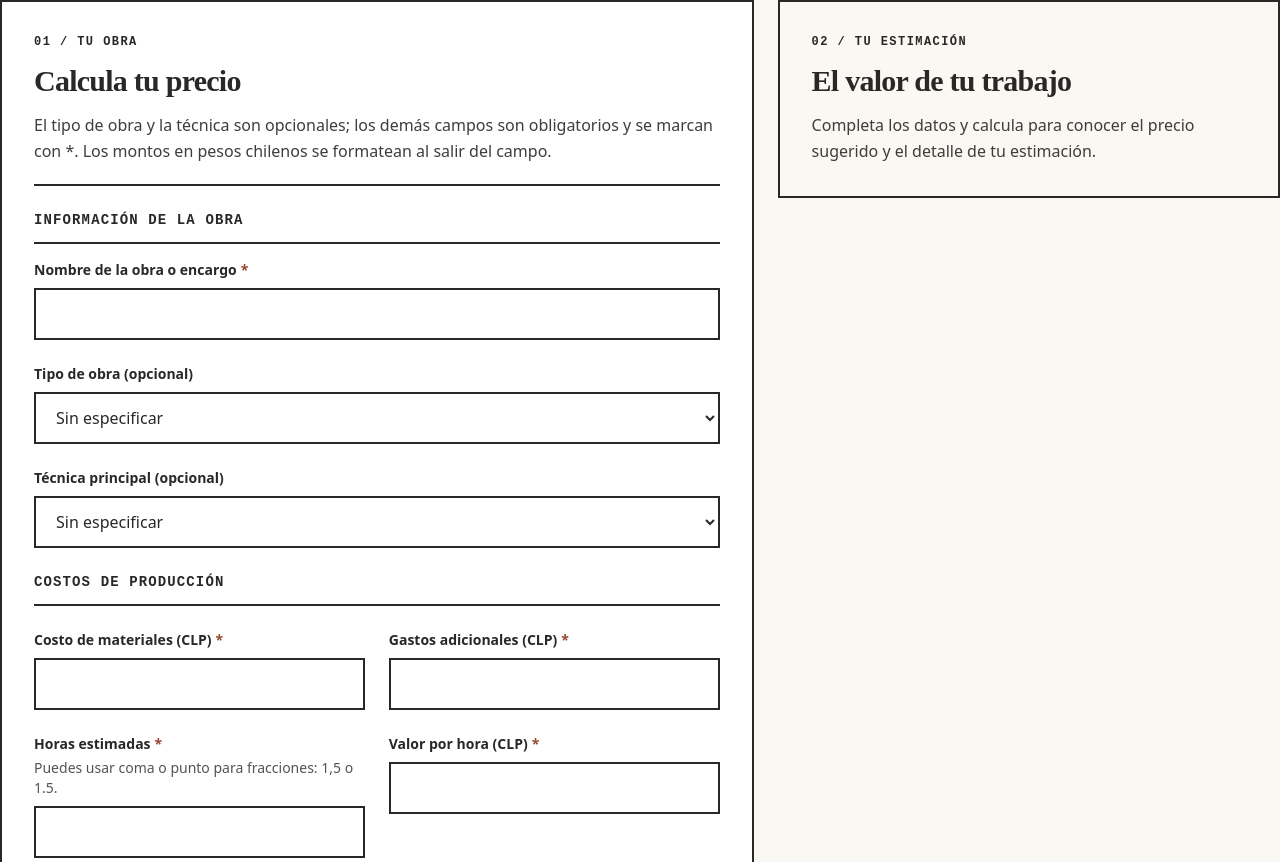
Test: Calculadora › permite acceder con teclado al campo personalizado
The width and height of the screenshot is (1280, 862).
Press Tab
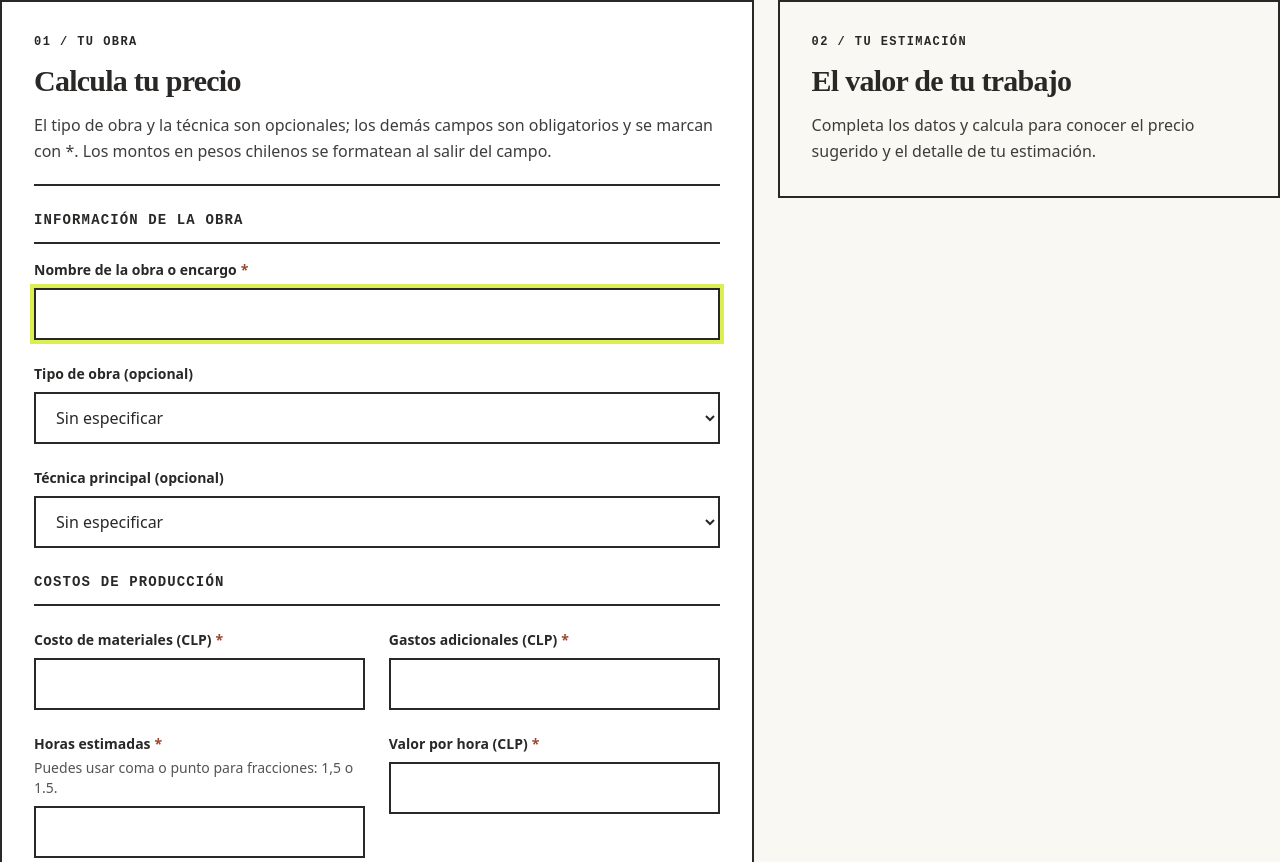
Press Tab
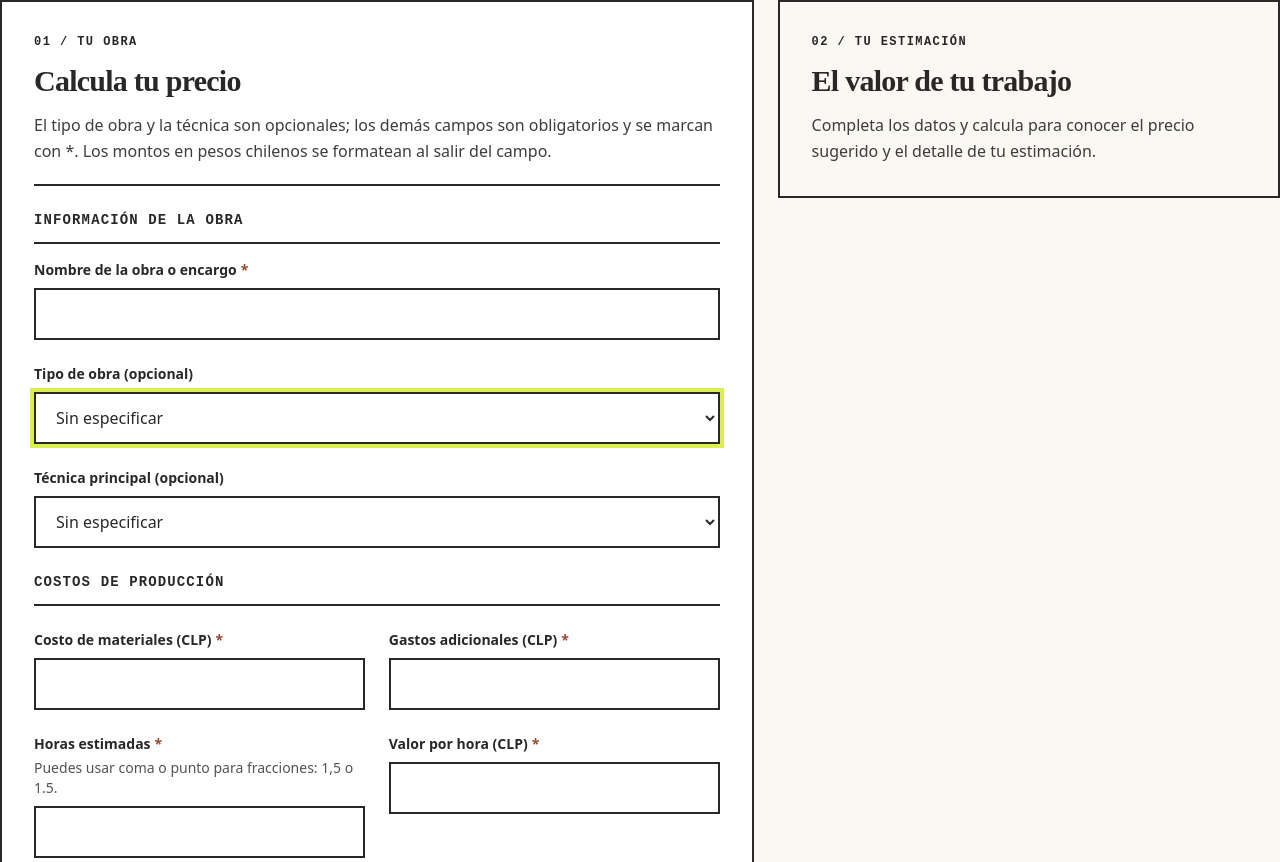
Select "Otra" in the dropdown labelled "Tipo de obra (opcional)" at [377, 418], box [34,392,720,444]
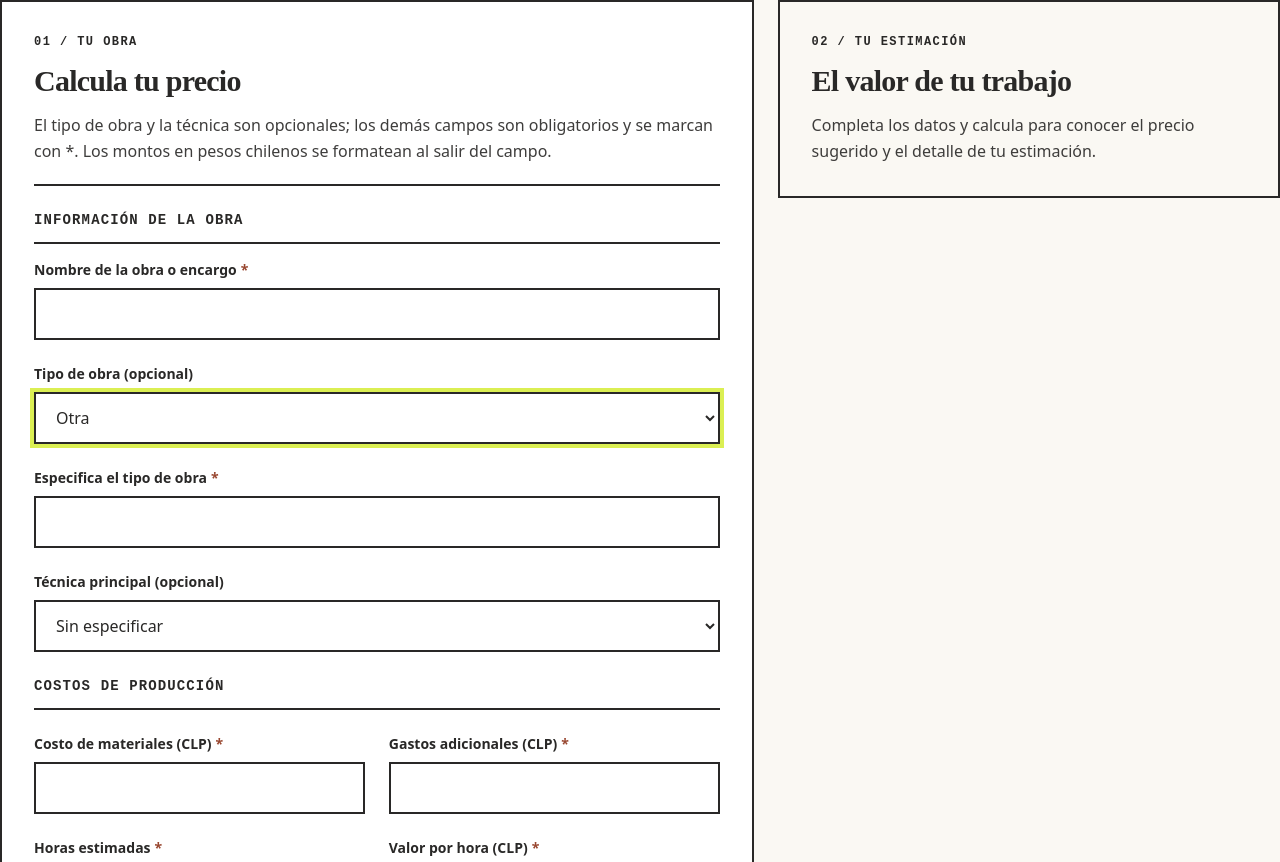
Press Tab
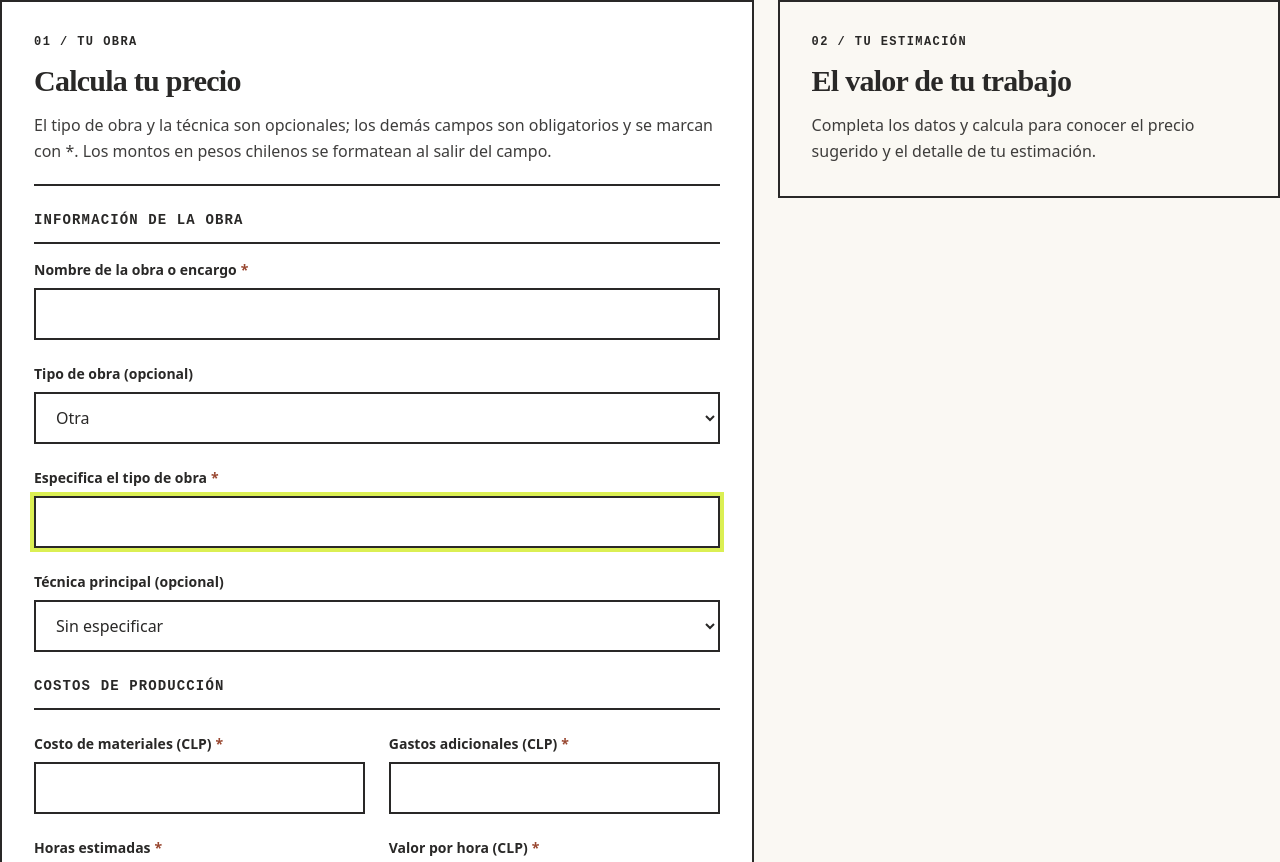
Type keys "Instalación"
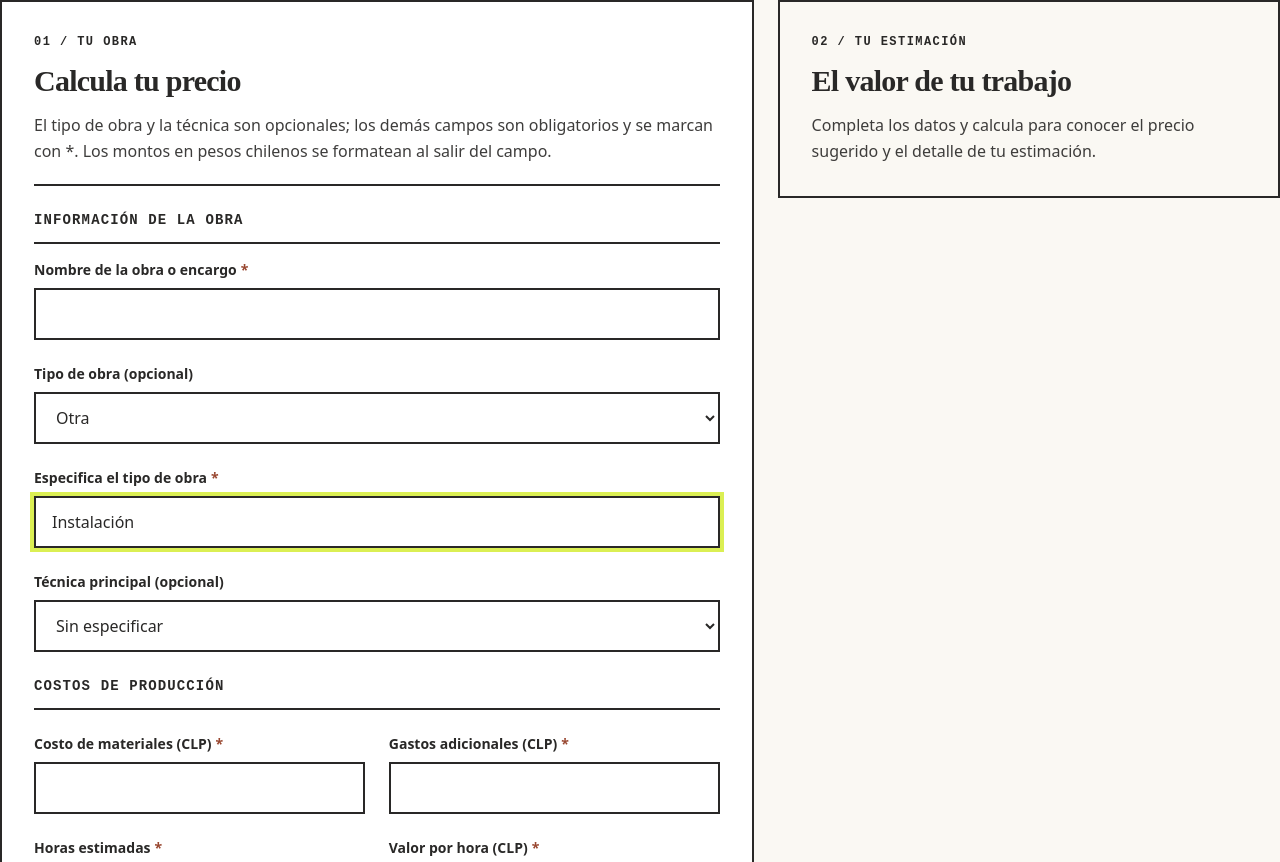
Check: the field labelled "Especifica el tipo de obra" holds "Instalación", box [34,496,720,548]
